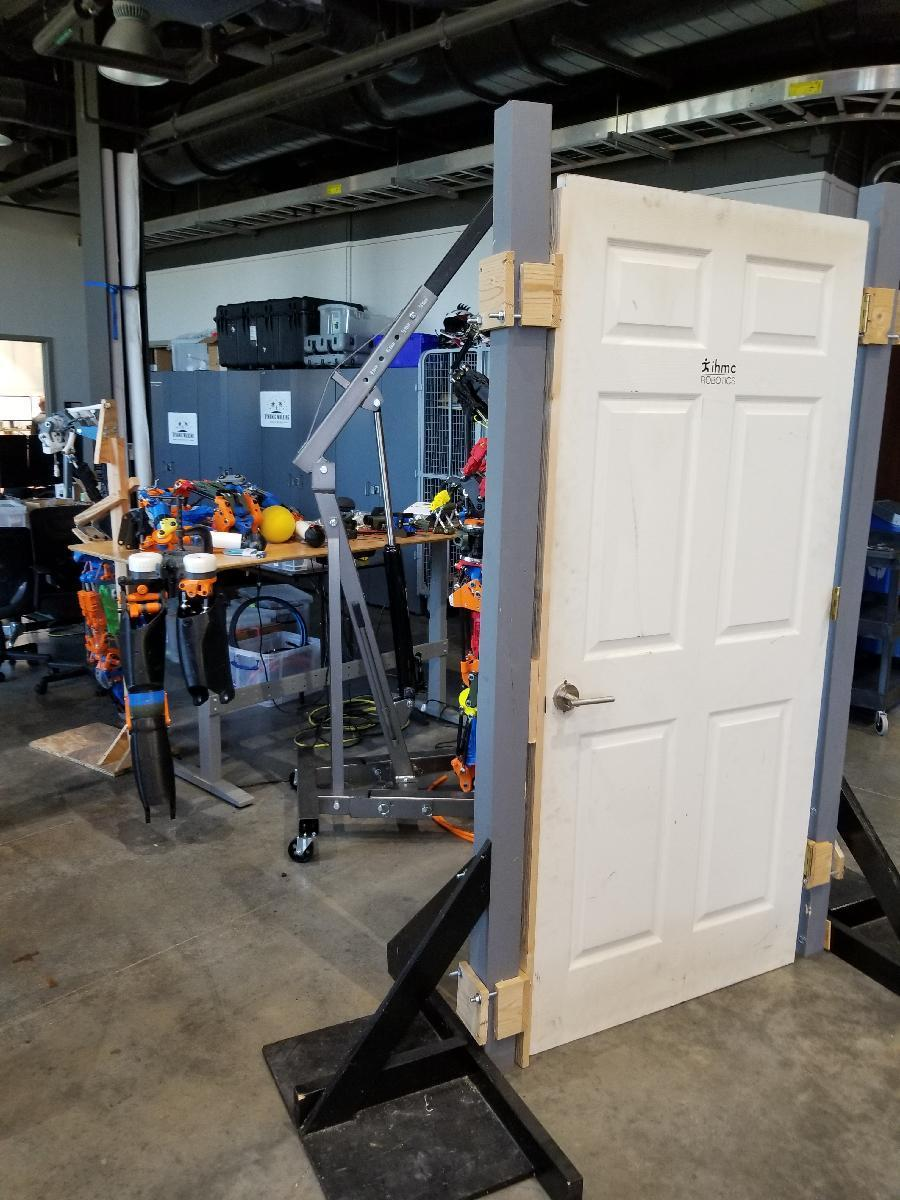door: (538, 188, 838, 1033)
handle: (554, 678, 622, 715)
